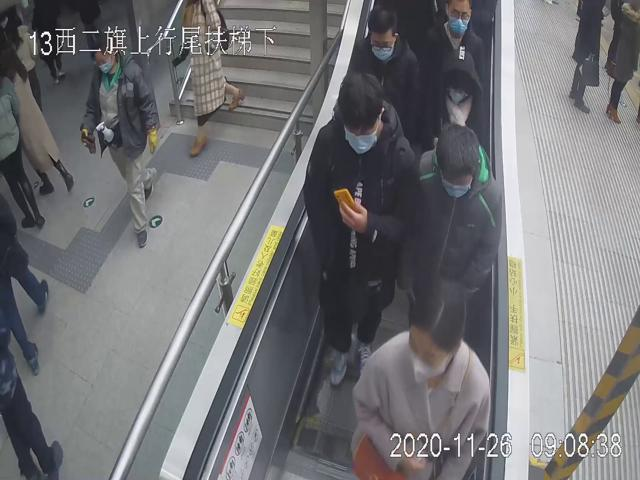person: (303, 65, 418, 391), (349, 275, 494, 479), (398, 116, 503, 323), (78, 26, 159, 251), (347, 2, 419, 122), (416, 47, 490, 155), (417, 0, 489, 106)
